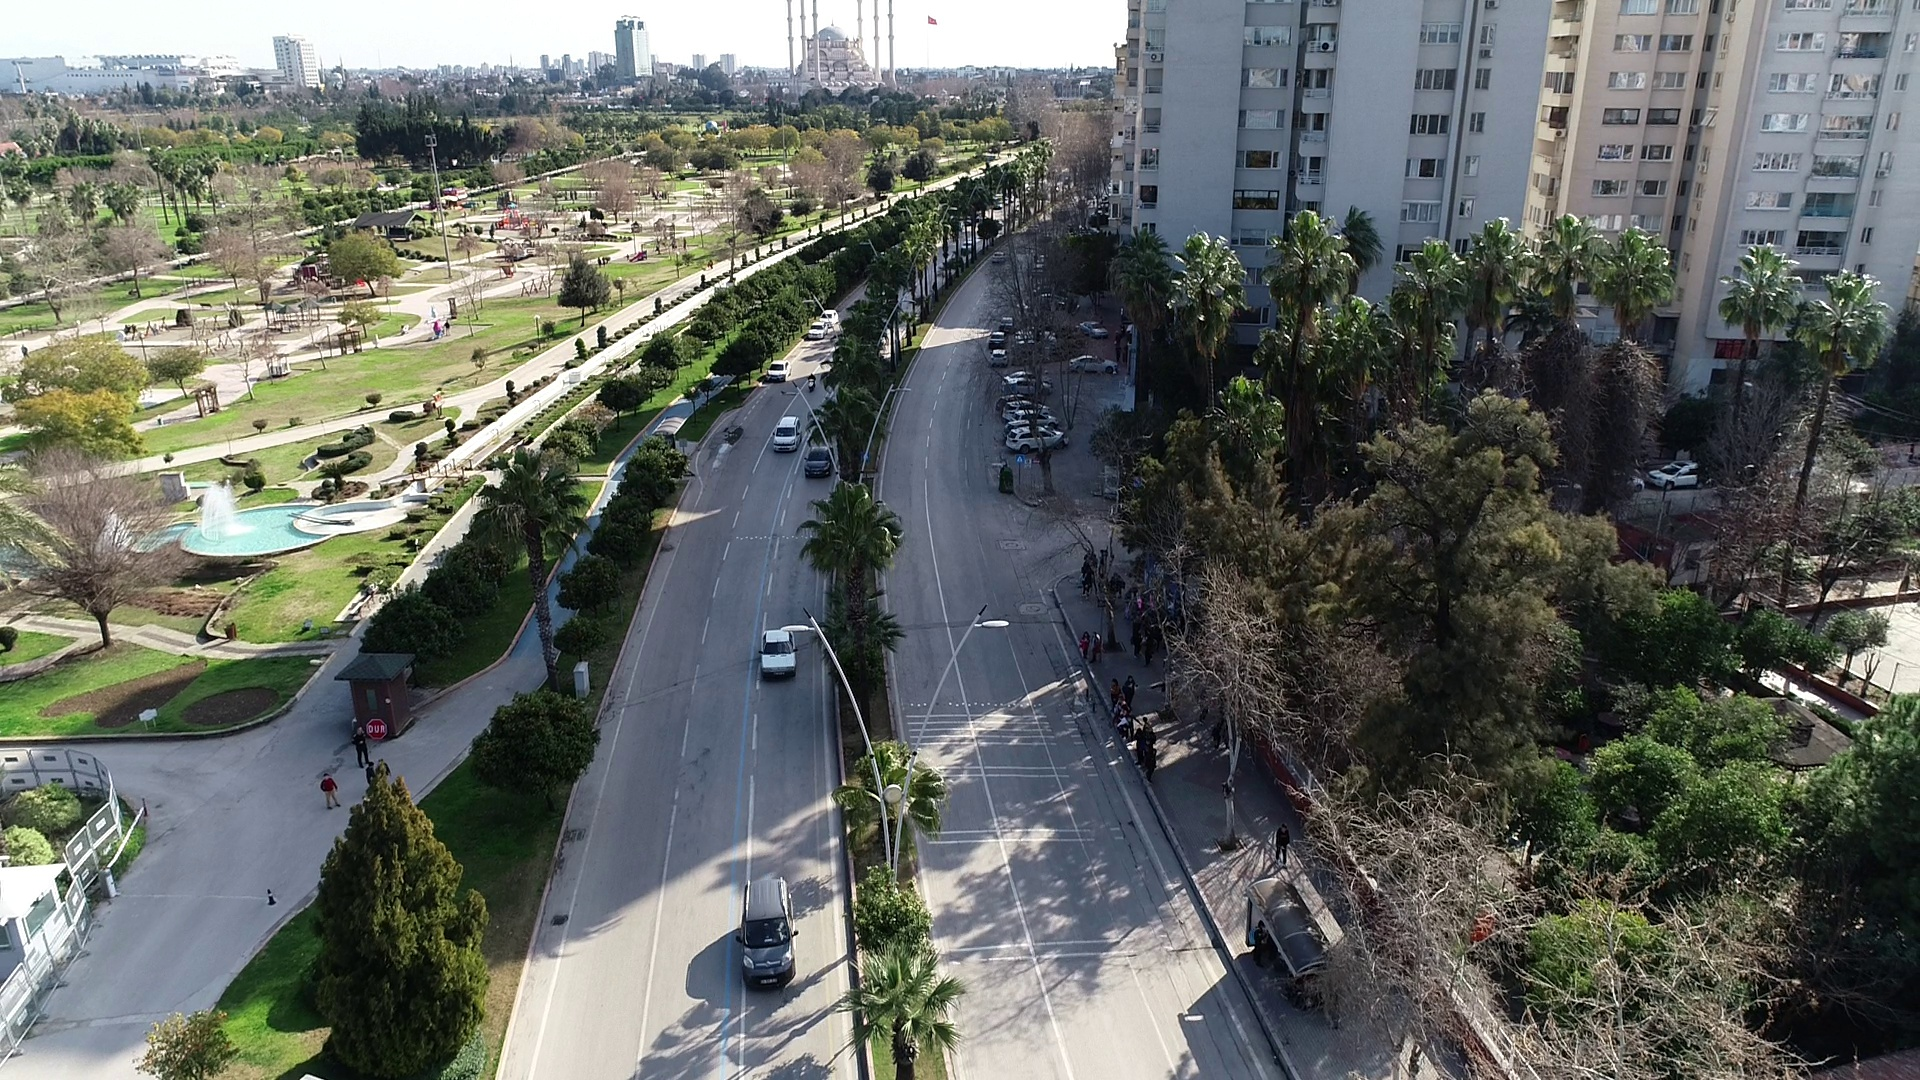car: (728, 874, 810, 994), (1645, 454, 1713, 490), (755, 626, 802, 681), (1007, 427, 1072, 454), (1002, 398, 1058, 426), (769, 412, 804, 453), (1067, 352, 1122, 378), (802, 441, 834, 480), (1003, 368, 1054, 390), (765, 356, 794, 385), (1077, 318, 1110, 339), (985, 347, 1012, 368), (807, 319, 830, 342), (988, 328, 1012, 349), (819, 308, 840, 328), (991, 247, 1006, 264)
person: (1269, 821, 1296, 869), (349, 725, 379, 769), (316, 772, 342, 811), (1251, 923, 1269, 971), (1120, 671, 1138, 711), (360, 759, 387, 787), (1146, 748, 1164, 783), (1106, 674, 1123, 712), (1087, 629, 1105, 661), (1130, 627, 1143, 659), (1139, 712, 1158, 734), (1080, 628, 1091, 660), (443, 318, 453, 336), (804, 372, 818, 383)
